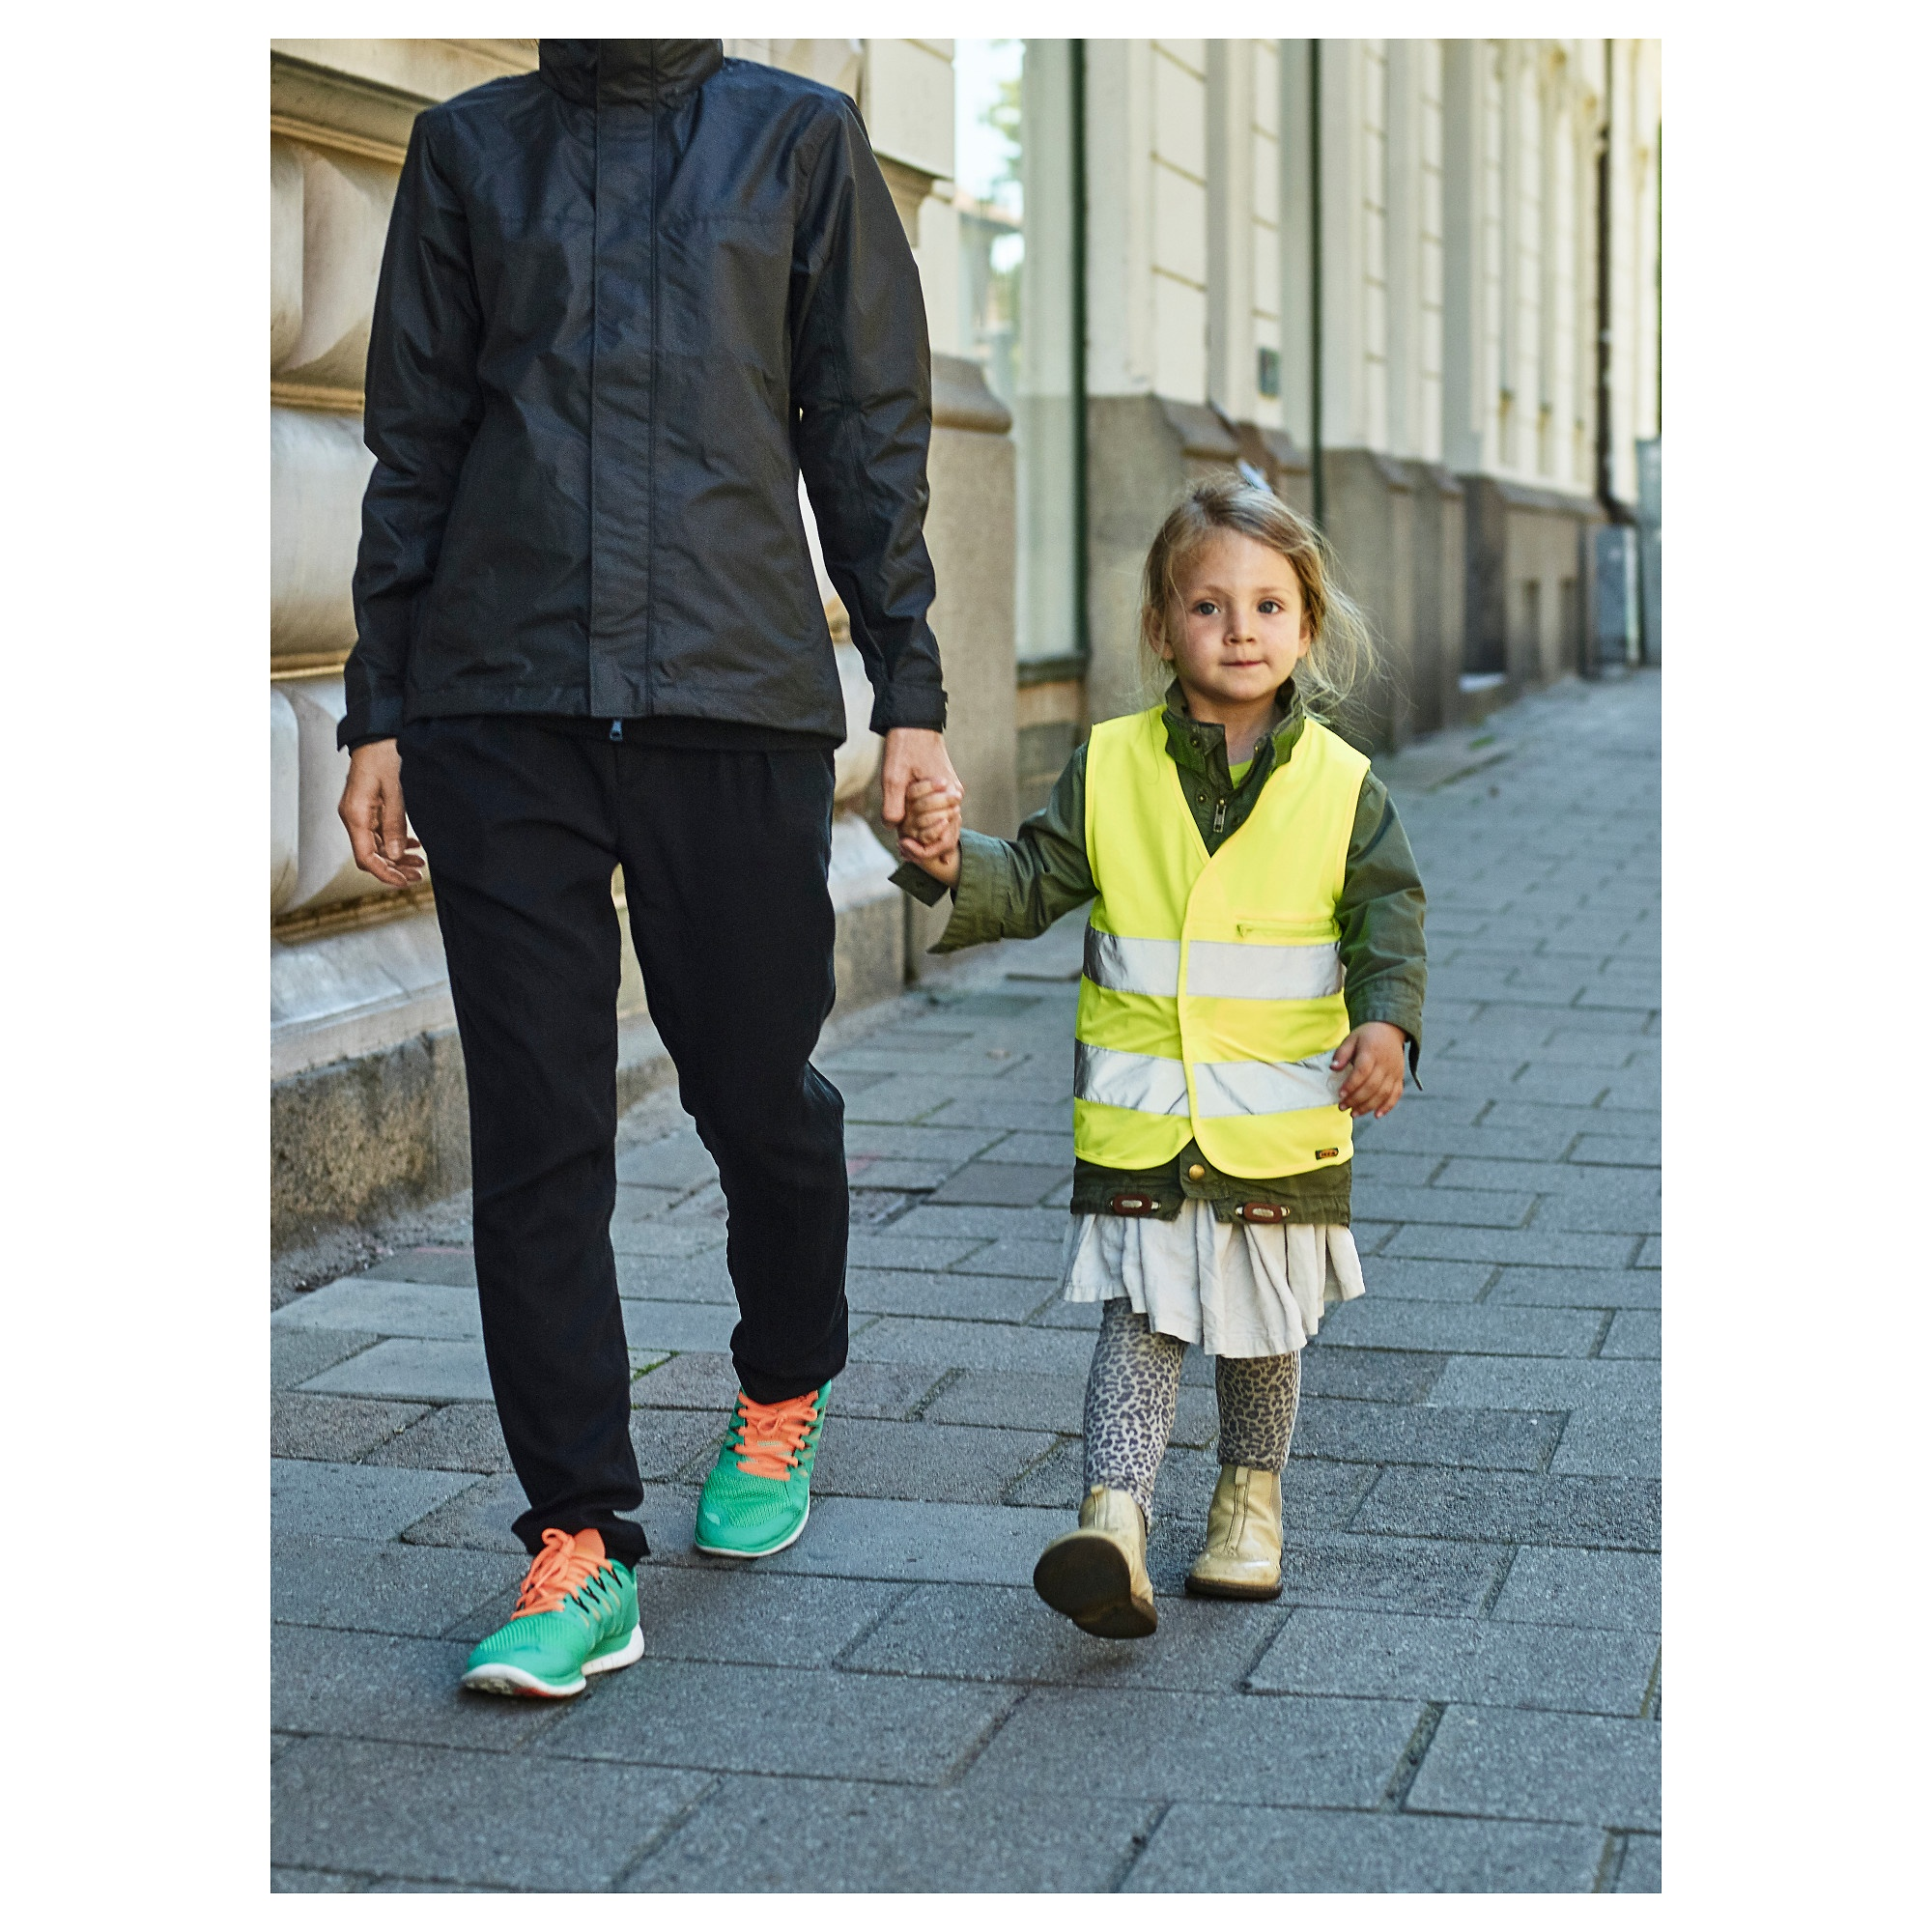person with partial safety: (1031, 478, 1361, 1652)
person without safety: (339, 36, 949, 1719)
safety vest: (1079, 704, 1363, 1179)
